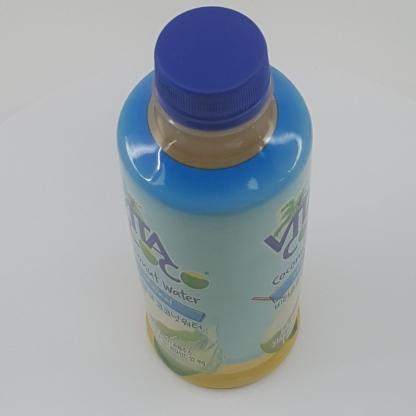----------280ml: (117, 6, 313, 389)
